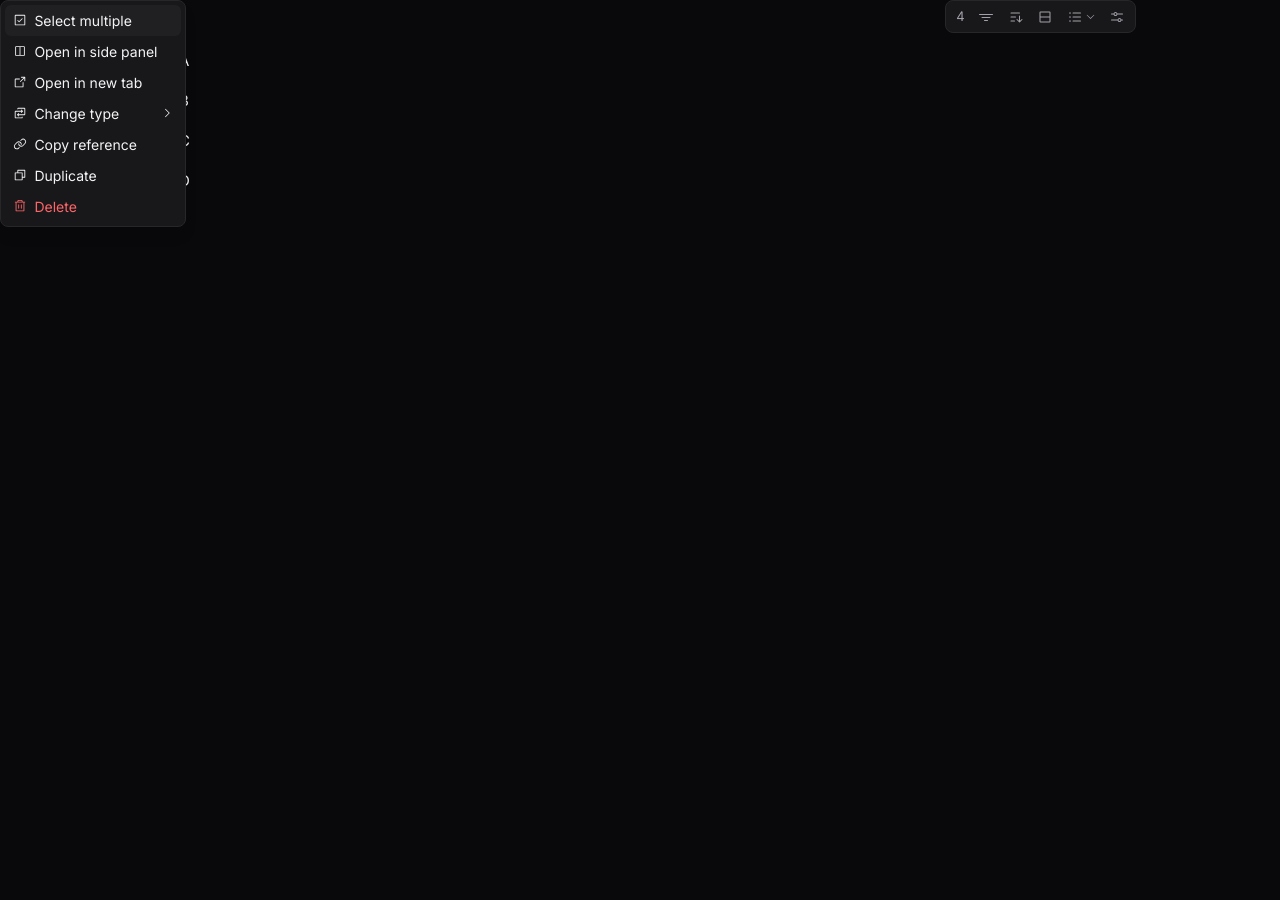
Test: DataView multi-select (Task 18) › Escape with a dialog open closes the dialog, not the selection
Click the menu item "Select multiple" at (93, 20), box [5,5,181,36]
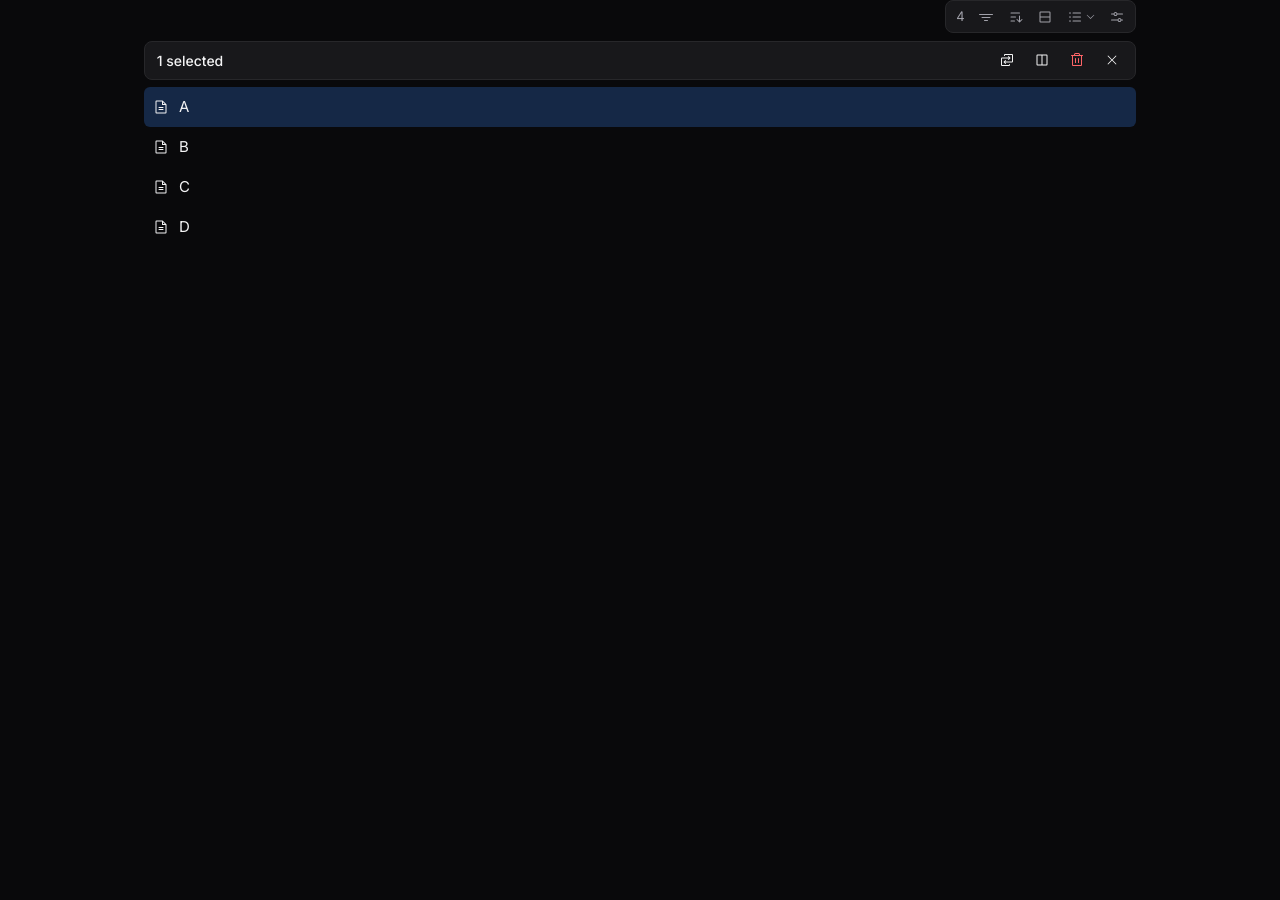
Click the button named "Delete" at (1077, 60), box [1061,45,1092,76]
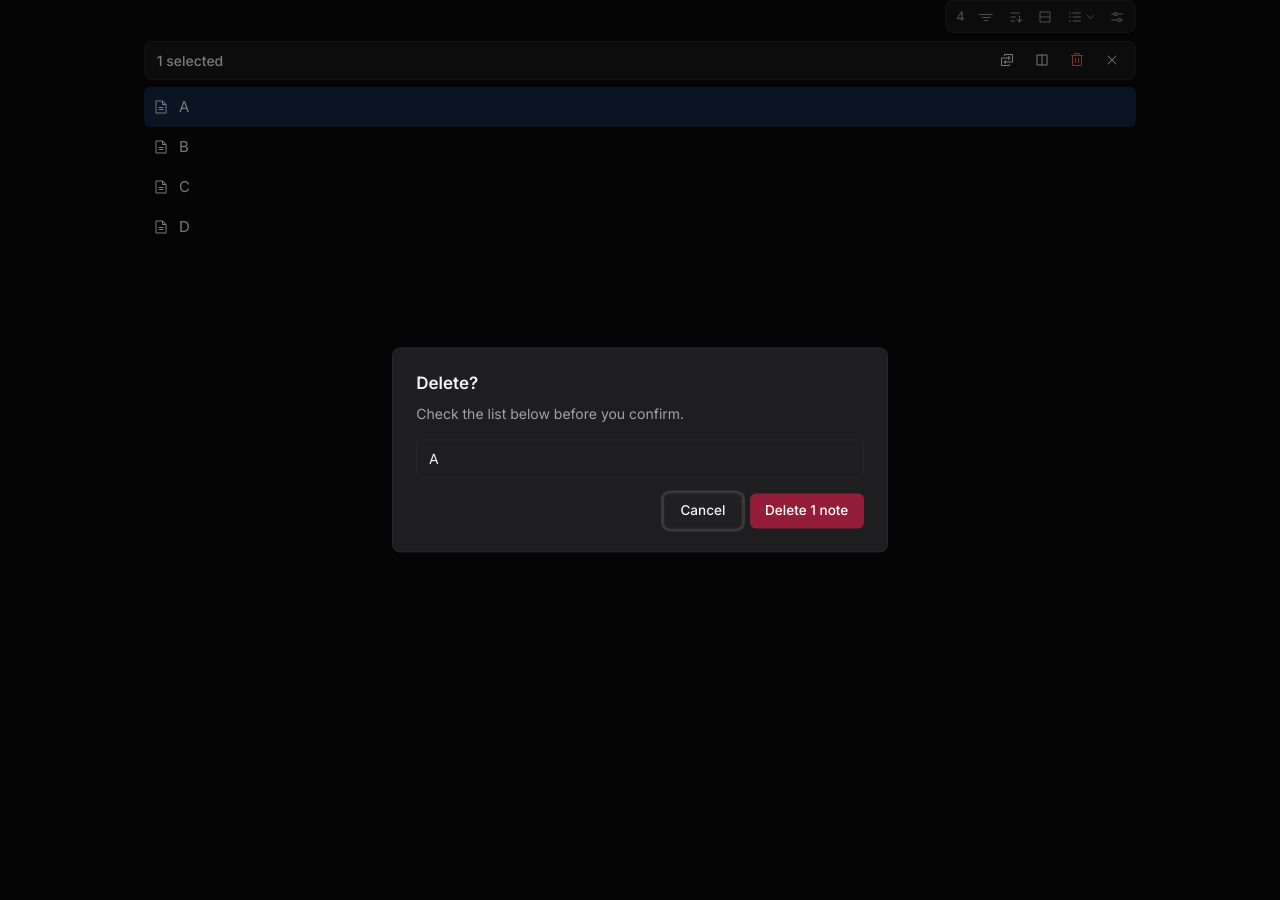
Now the dialog is shown, box [392,347,888,553]
Press Escape
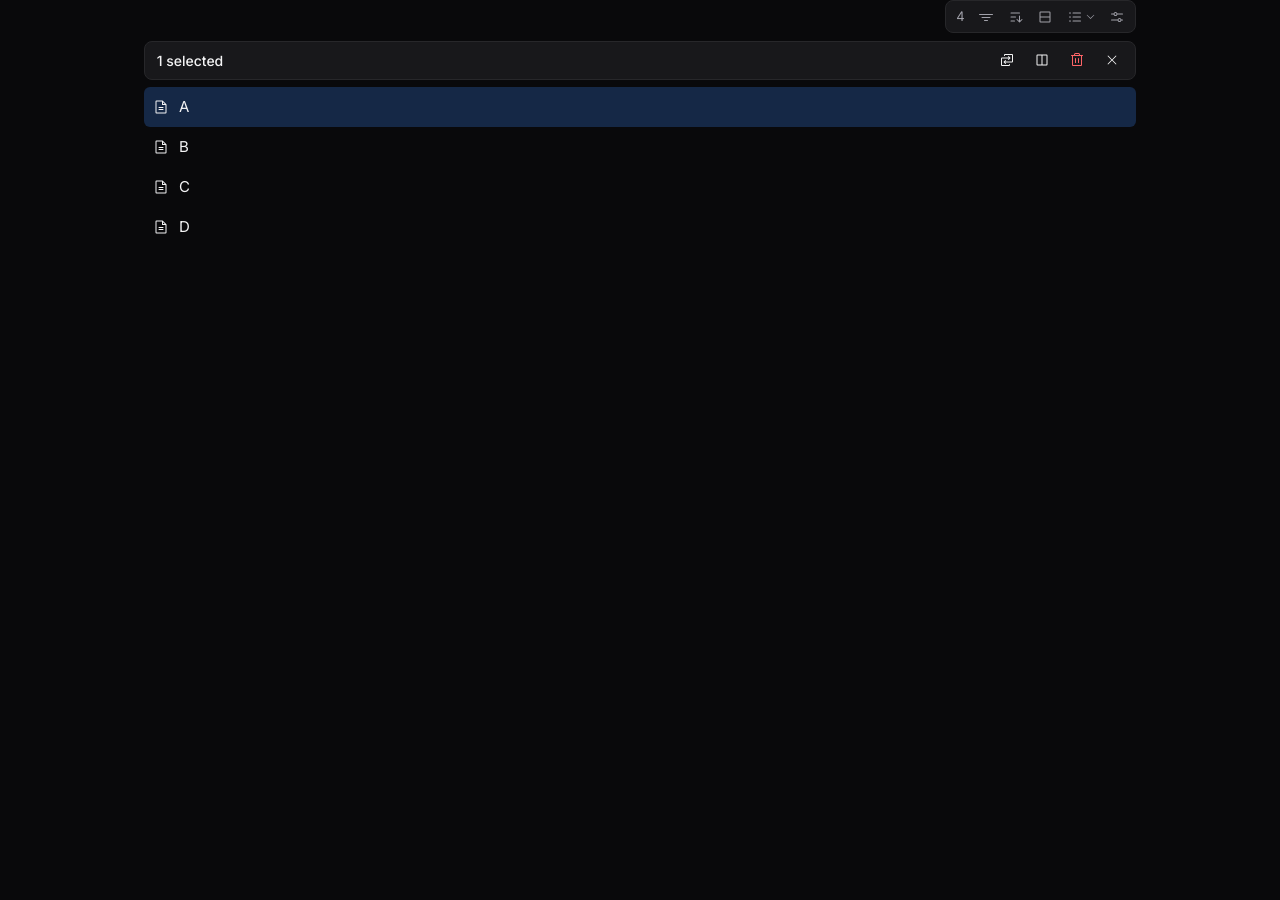
Now the dialog is gone
